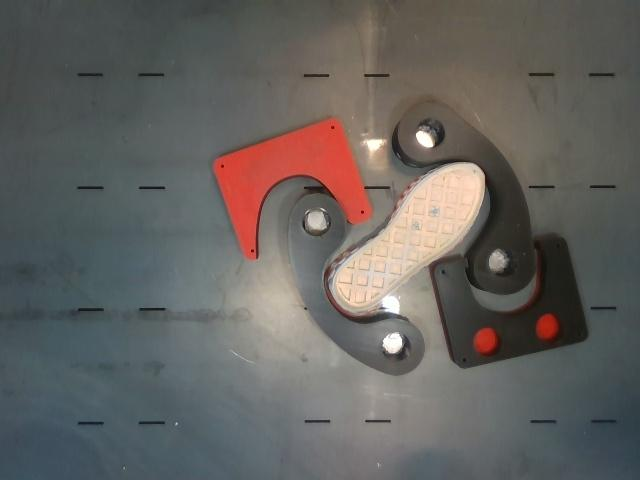shoes: (333, 163, 485, 311)
